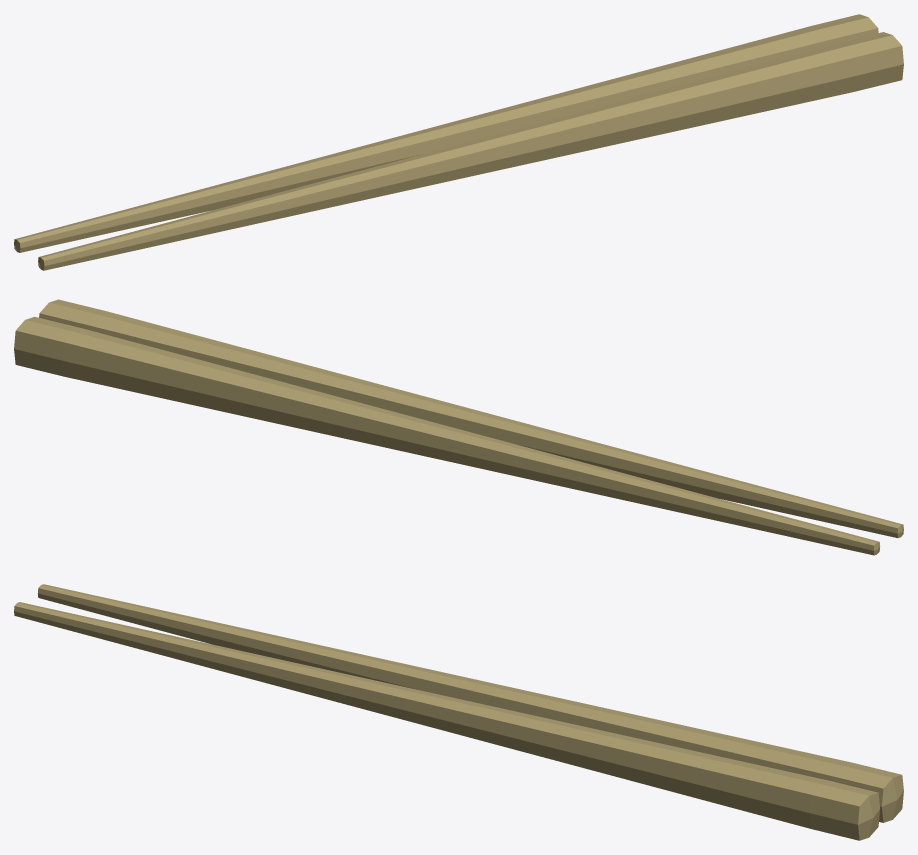
The model's file is Chopsticks_Variation1_v001.fbx.
3 renders of one model, top to bottom at view 1: azimuth 30°, elevation 25°; view 2: azimuth 150°, elevation 25°; view 3: azimuth 330°, elevation 25°, orthographic.
Parts seen in each view (by area): view 1: ChopsticksVariation1; view 2: ChopsticksVariation1; view 3: ChopsticksVariation1.
Part boxes in pixels (left/top/right/bottom): ChopsticksVariation1: left=14, top=14, right=903, bottom=270; ChopsticksVariation1: left=14, top=299, right=903, bottom=555; ChopsticksVariation1: left=14, top=584, right=903, bottom=840.
Bounding box in the file's own units: 3536 × 166 × 329.
